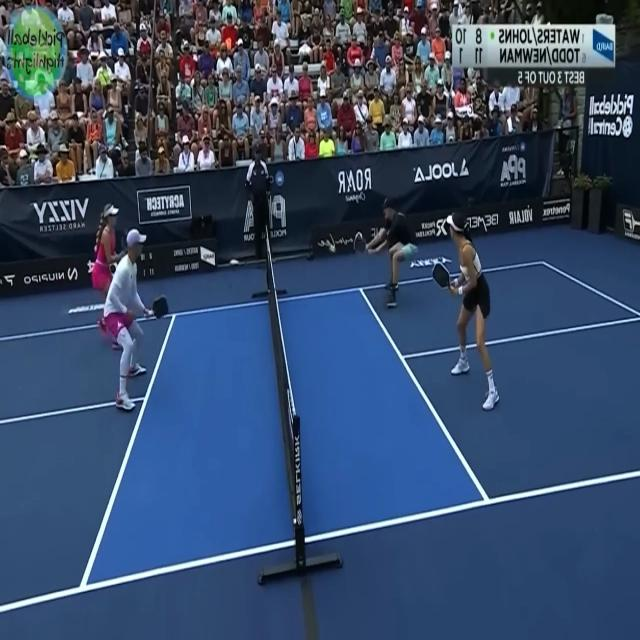Pickleball: (329, 241, 336, 253)
